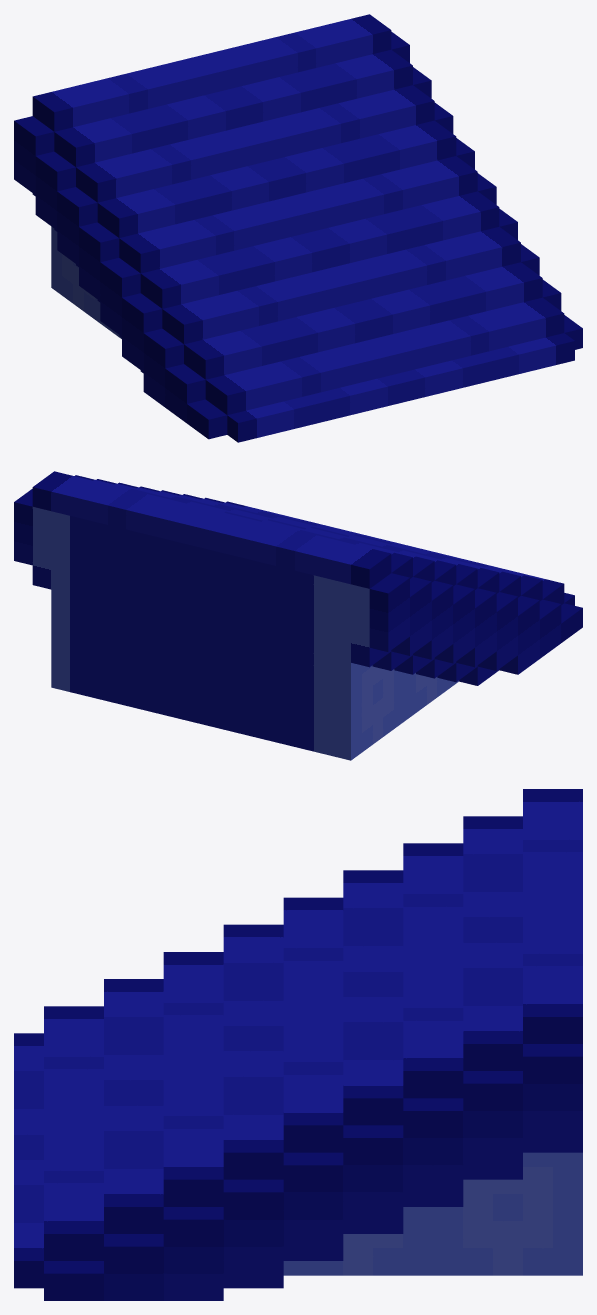
Rendered from half_top_ramp_bot.glb.
3 views of the same model, one above another, from view 1: azimuth 30°, elevation 25°; view 2: azimuth 150°, elevation 25°; view 3: azimuth 270°, elevation 25° (orthographic). The views are drawn at different scales.
Parts seen in each view (by area): view 1: half_top_ramp_bot; view 2: half_top_ramp_bot; view 3: half_top_ramp_bot.
Boxes of the visible parts, box(x1,y1,x2,y2) form: half_top_ramp_bot: box(14, 14, 582, 442); half_top_ramp_bot: box(14, 471, 582, 760); half_top_ramp_bot: box(14, 789, 582, 1300).
Bounding box in the file's own units: 2 × 1 × 1.9.
Materials: 1 (1 with a texture image).
